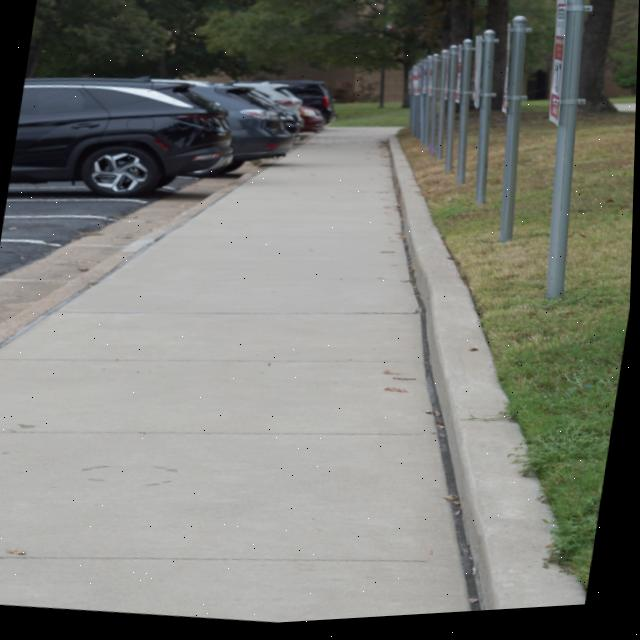Automobile: (10, 79, 233, 199), (193, 88, 295, 174), (215, 86, 303, 140), (234, 85, 303, 130), (272, 84, 336, 128), (301, 109, 325, 136)
Road: (0, 172, 250, 325)
Sidewalk: (0, 132, 475, 626)
